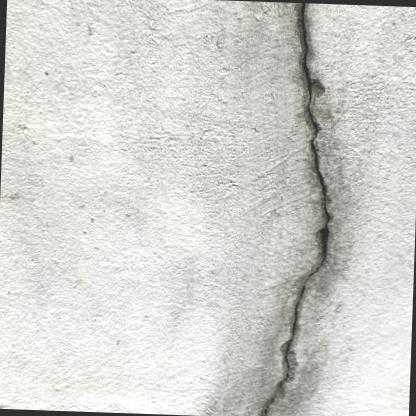crack: (261, 3, 329, 416)
